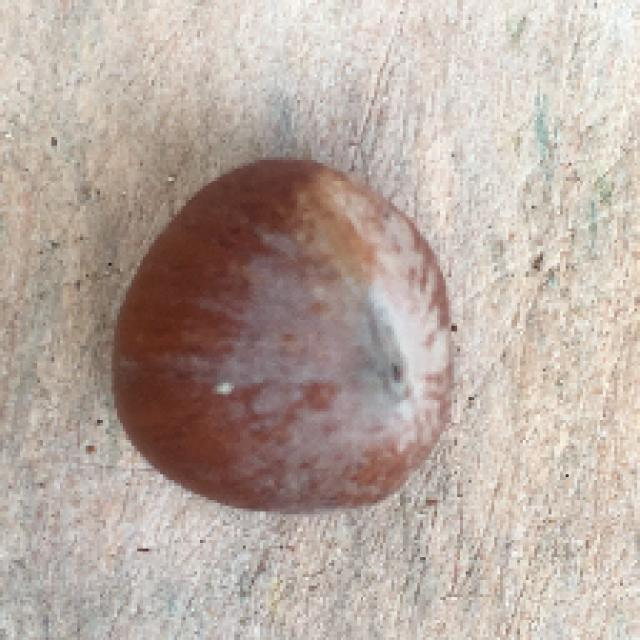qualityHazelnut: (99, 159, 461, 506)
